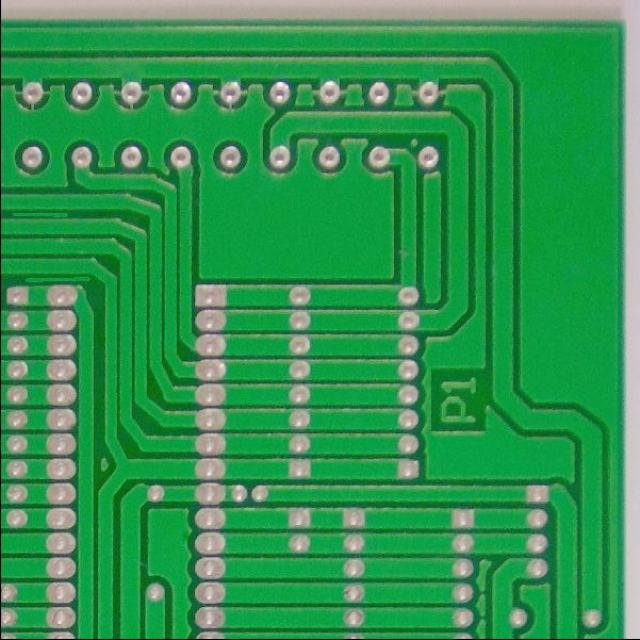Spurious_Cooper: (21, 272, 93, 286), (8, 206, 72, 220)
